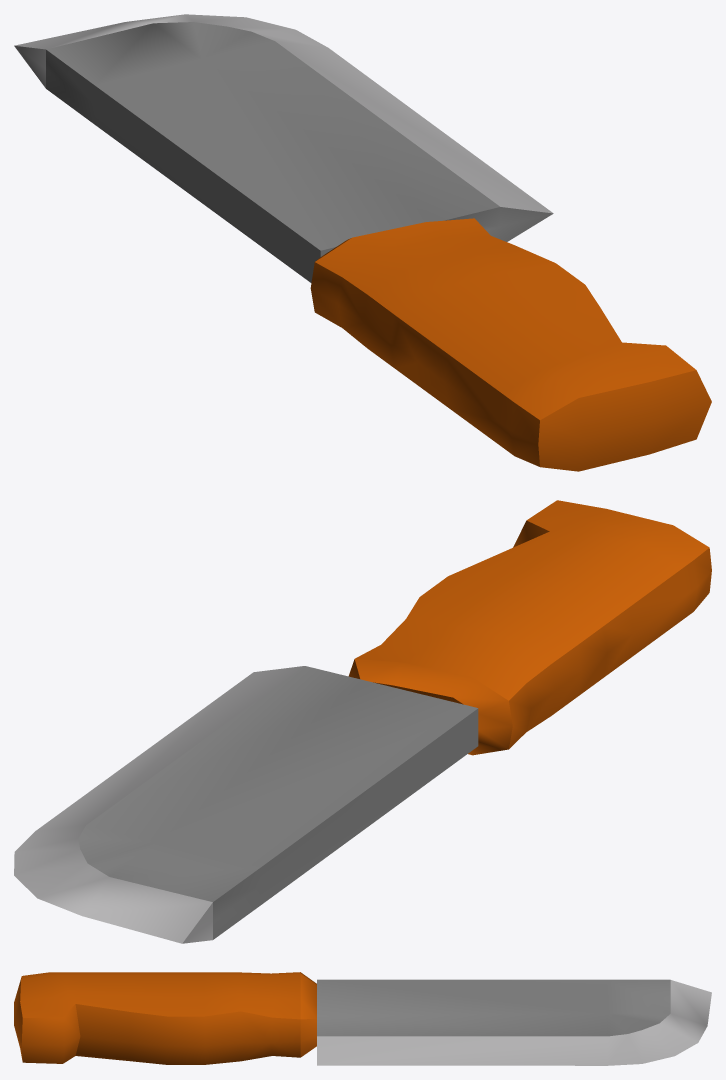
The model's file is Cleaver_02.fbx.
The picture shows the model from 3 angles, top to bottom: view 1: azimuth 30°, elevation 25°; view 2: azimuth 150°, elevation 25°; view 3: azimuth 270°, elevation 25°; orthographic projection. The views are drawn at different scales.
Parts seen in each view (by area): view 1: Cleaver_02; view 2: Cleaver_02; view 3: Cleaver_02.
Boxes of the visible parts, <box> form: Cleaver_02: <box>14,14,711,471</box>; Cleaver_02: <box>14,500,711,943</box>; Cleaver_02: <box>14,972,711,1065</box>.
Size of the model in its own units: 22.51 by 7.16 by 82.35.
